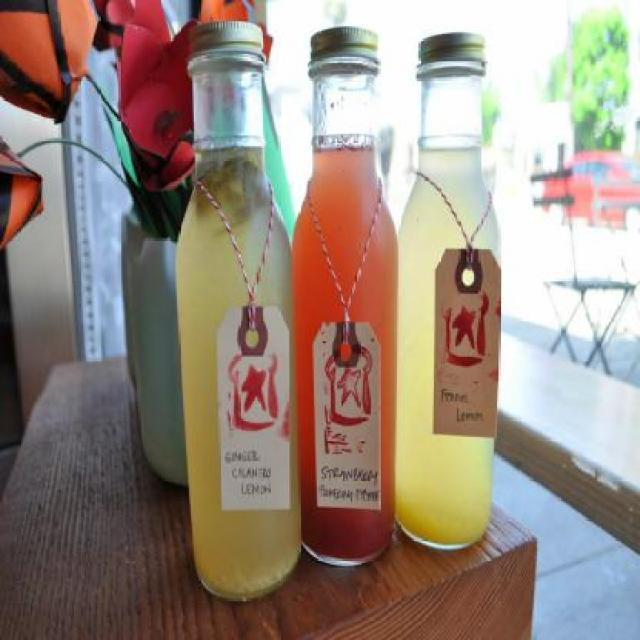Juice: (176, 132, 299, 590), (290, 136, 399, 558), (398, 133, 500, 549)
